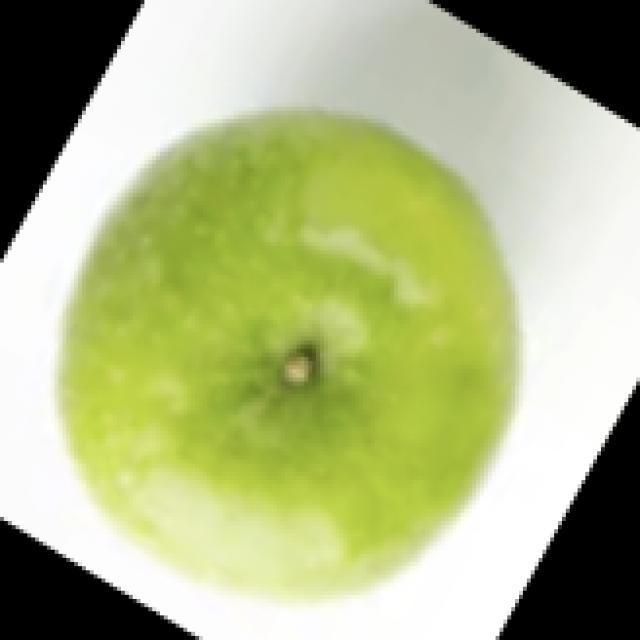Fresh Apple: (90, 86, 515, 612)
